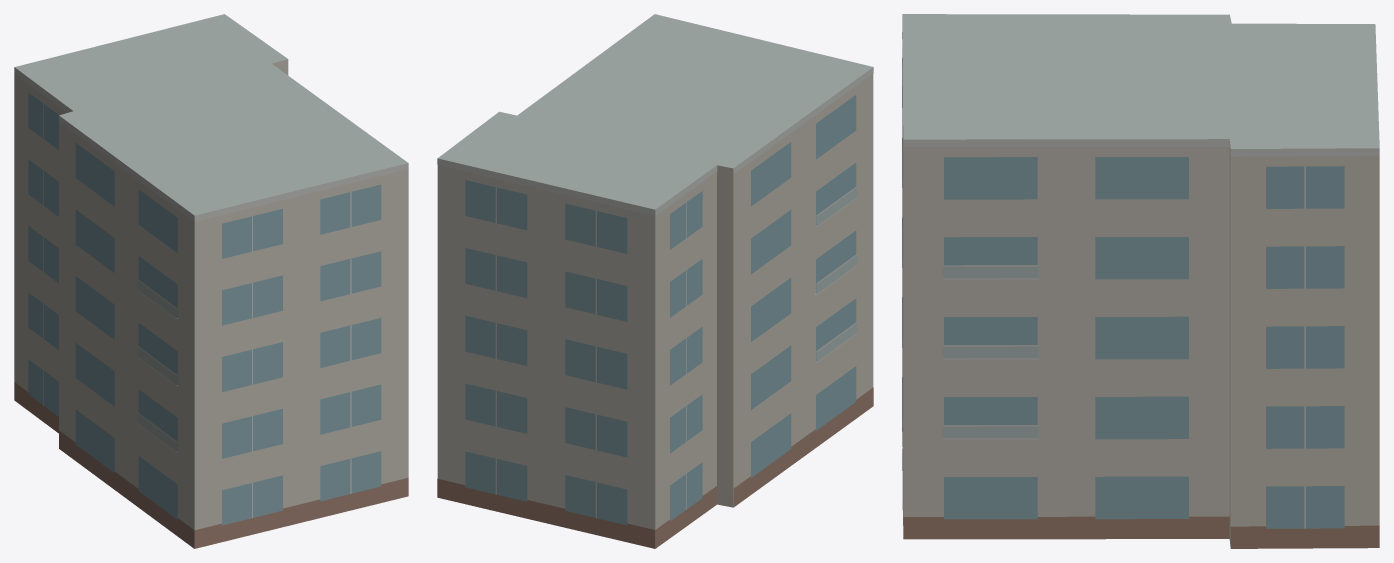
The model's file is survey-upis-32995738.glb.
The picture shows the model from 3 angles, left to right: view 1: azimuth 30°, elevation 25°; view 2: azimuth 150°, elevation 25°; view 3: azimuth 270°, elevation 25°; orthographic projection. The views are drawn at different scales.
Parts seen in each view (by area): view 1: survey-upis-32995738.tmp; view 2: survey-upis-32995738.tmp; view 3: survey-upis-32995738.tmp.
Boxes of the visible parts, x1,y1,x2,y2 form: survey-upis-32995738.tmp: [14, 14, 408, 548]; survey-upis-32995738.tmp: [437, 14, 873, 548]; survey-upis-32995738.tmp: [902, 14, 1379, 548].
Size of the model in its own units: 9.47 by 13.01 by 14.1.
